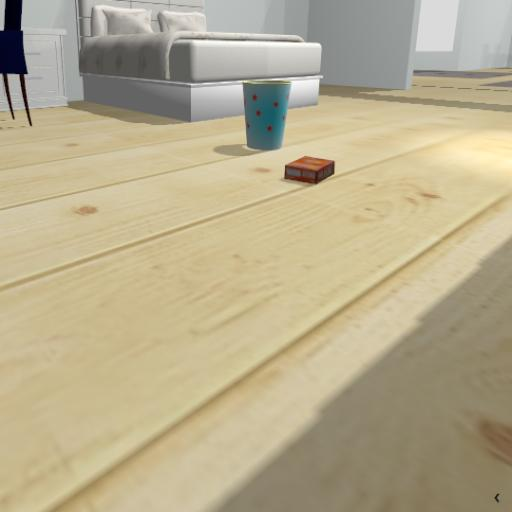BOX_R: (278, 150, 350, 202)
Trash: (224, 67, 301, 159)
